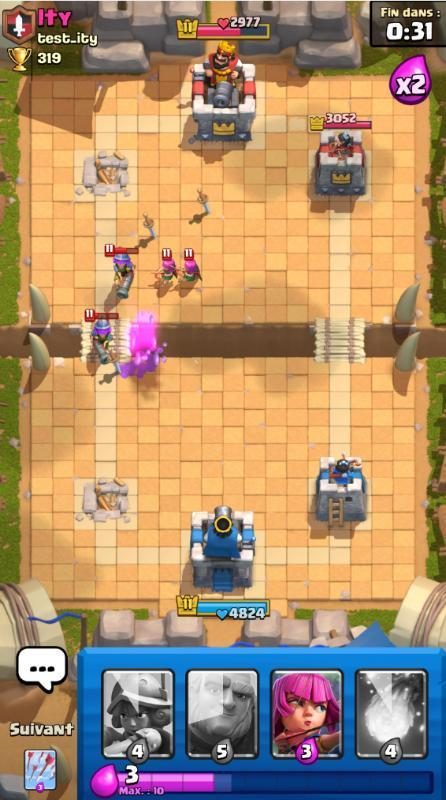enemy_archers: (153, 248, 180, 286), (178, 248, 205, 286)
enemy_musketeer: (79, 309, 122, 363), (101, 243, 141, 298)
